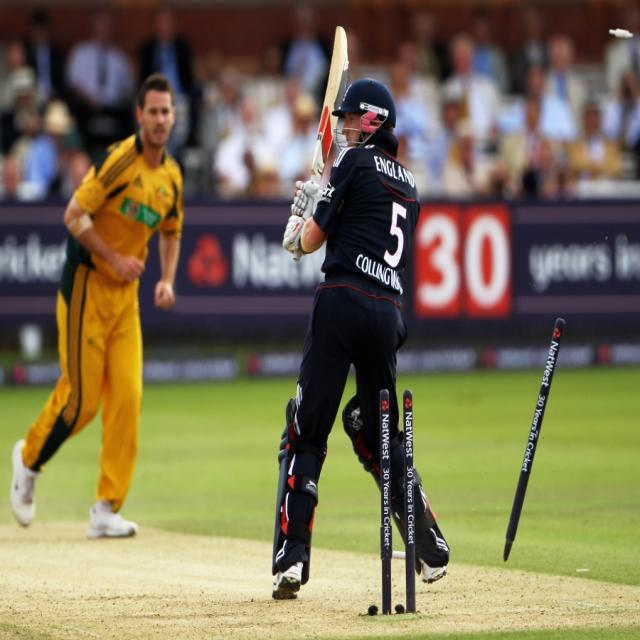stump: (499, 313, 568, 566), (380, 388, 416, 613)
